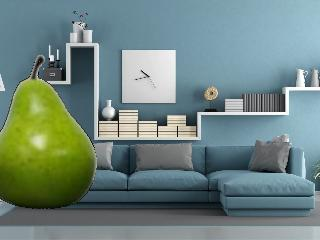pear: (0, 56, 97, 208)
